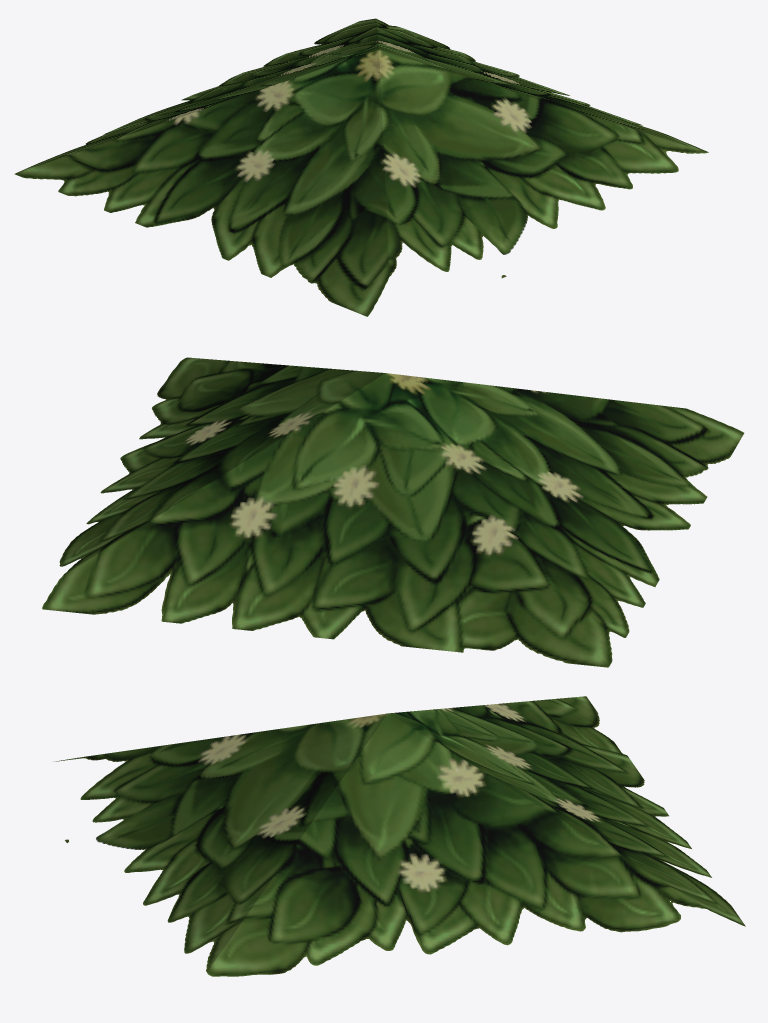
Rendered from fanasty_mod_shrub02.fbx.
3 views of the same model, one above another, from view 1: azimuth 30°, elevation 25°; view 2: azimuth 150°, elevation 25°; view 3: azimuth 270°, elevation 25° (orthographic). The views are drawn at different scales.
Visible parts, largest first — view 1: shrub_02; view 2: shrub_02; view 3: shrub_02.
Part boxes in pixels (box(x1,y1,x2,y2)): shrub_02: box(14, 18, 708, 316); shrub_02: box(42, 357, 744, 667); shrub_02: box(53, 696, 745, 976).
Size of the model in its own units: 1.69 by 0.3464 by 1.69.
